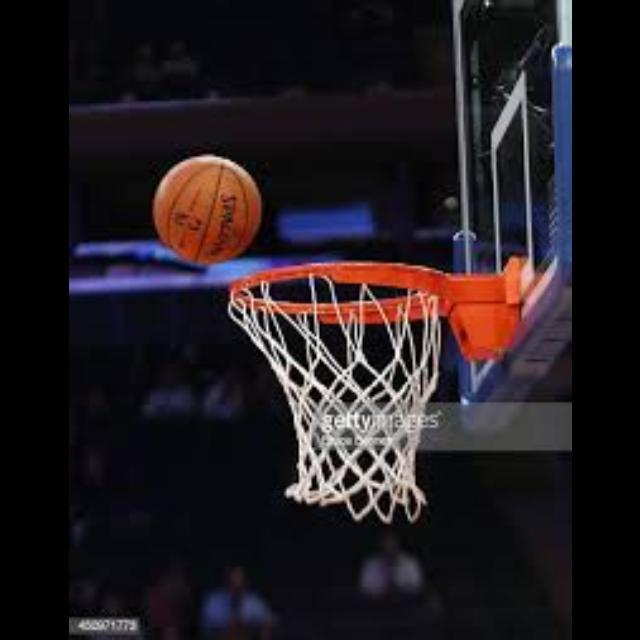basketball: (148, 156, 262, 266)
rim: (227, 262, 445, 526)
